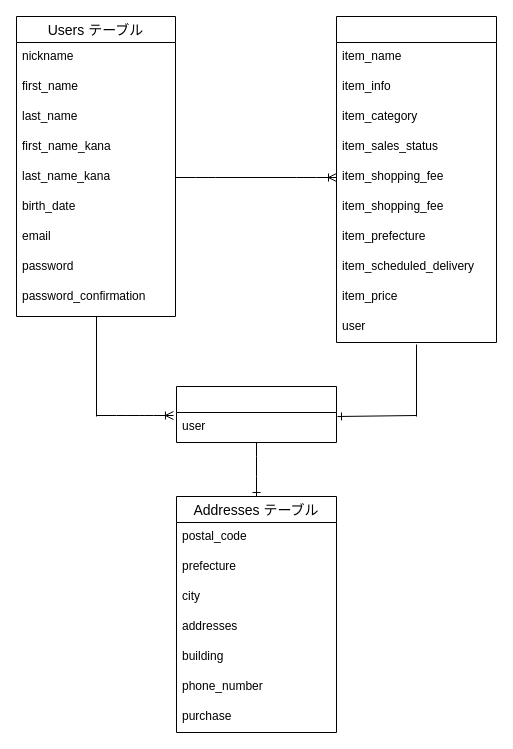
The diagram is 513 pixels wide and 749 high, and some of its shapes have lost their labels. Here are the shapes that lost their labels. From the top down, the box of each, then its label:
(336, 16, 496, 342): Itemsテーブル
(176, 386, 336, 442): Purchases テーブル
